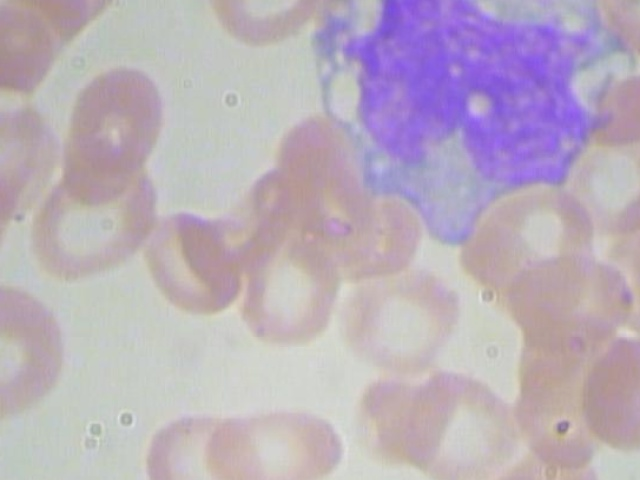RBC: (26, 148, 163, 289), (337, 257, 471, 371), (200, 401, 354, 480), (136, 204, 239, 318), (65, 62, 167, 176), (504, 252, 631, 340), (0, 282, 75, 420), (138, 410, 262, 480), (577, 335, 640, 448), (594, 0, 640, 68), (623, 211, 640, 324)
WBC: (318, 0, 636, 255)
